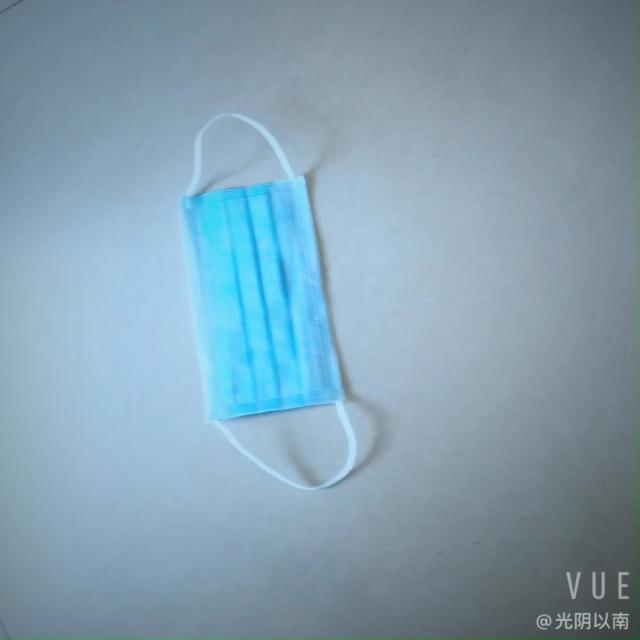non-organic waste: (190, 165, 344, 432)
